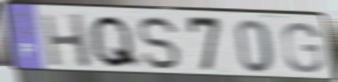0: (233, 18, 276, 75)
7: (184, 14, 225, 75)
G: (280, 21, 326, 75)
H: (39, 12, 94, 70)
Q: (87, 14, 145, 71)
S: (136, 14, 184, 72)
